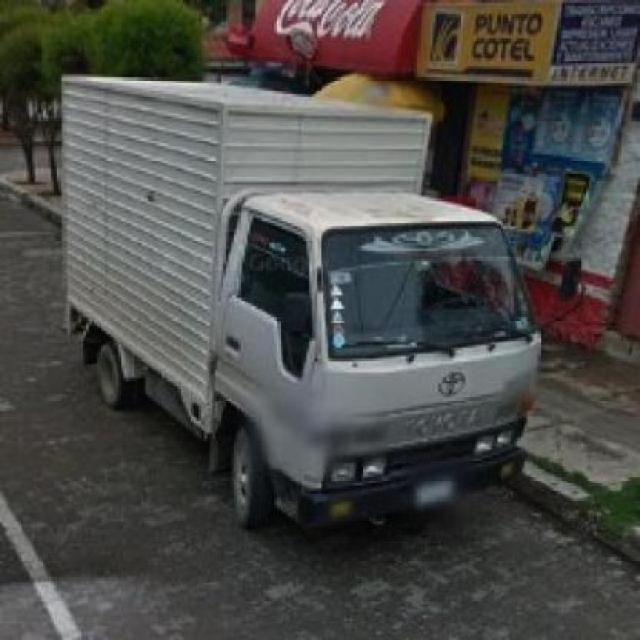car: (59, 63, 538, 523)
